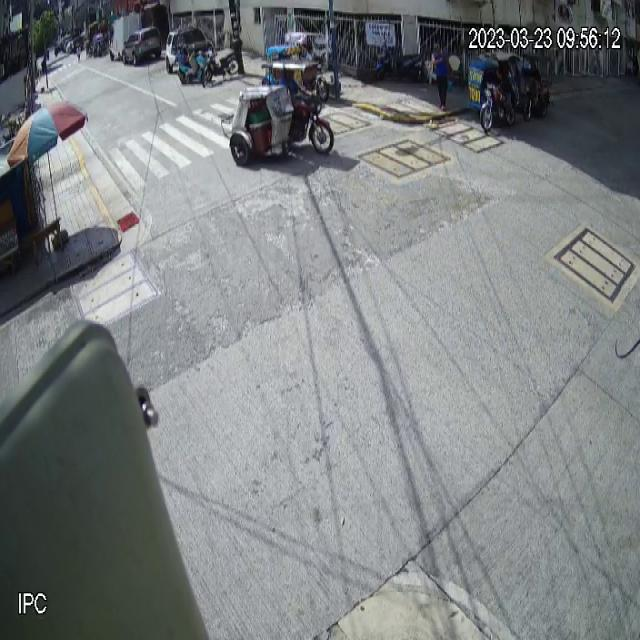Tricycle: (223, 57, 335, 167)
